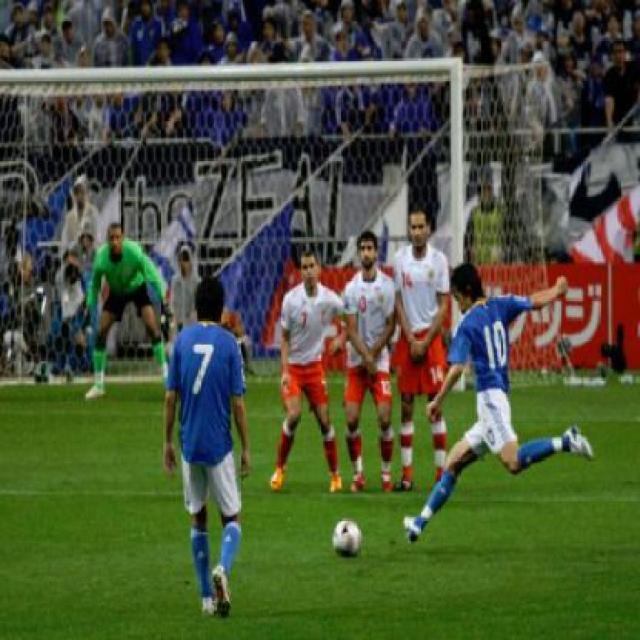ball: (335, 518, 363, 557)
player: (398, 260, 597, 551), (166, 272, 254, 623), (259, 253, 350, 498), (78, 217, 174, 410), (394, 205, 451, 498), (335, 226, 395, 491)
